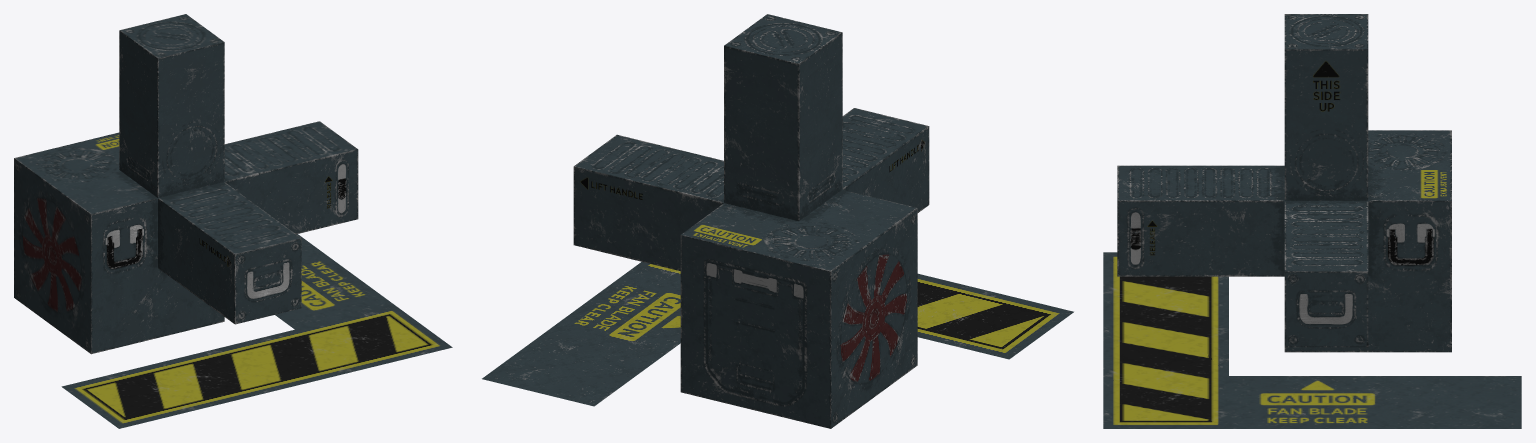
File: Node_Attribute_07.gltf
The picture shows the model from 3 angles, left to right: view 1: azimuth 30°, elevation 25°; view 2: azimuth 150°, elevation 25°; view 3: azimuth 270°, elevation 25°; orthographic projection. The views are drawn at different scales.
Visible parts, largest first — view 1: Node1, Node0; view 2: Node1, Node0; view 3: Node1, Node0.
Part boxes in pixels (x1,y1,x2,y2): Node1: (14,14,358,354); Node0: (61,234,452,428); Node1: (573,14,929,428); Node0: (482,262,1073,406); Node1: (1117,14,1451,352); Node0: (1103,252,1521,428).
Bounding box in the file's own units: 15 × 12 × 15.
Materials: 2 (2 with a texture image).
